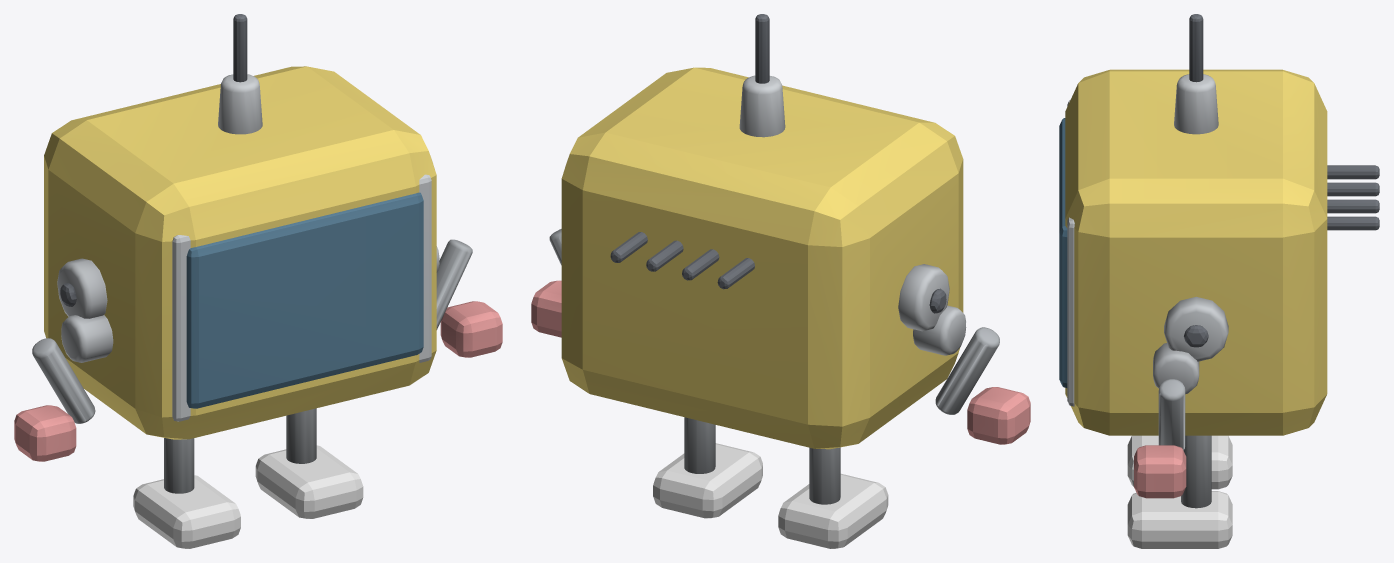
Rendered from Boulon.fbx.
The picture shows the model from 3 angles, left to right: view 1: azimuth 30°, elevation 25°; view 2: azimuth 150°, elevation 25°; view 3: azimuth 270°, elevation 25°; orthographic projection. The views are drawn at different scales.
Visible parts, largest first — view 1: corps__yellow, ecran__screen, pied__red.001, pied__red, cadre__metal, pince__red, pince__red.001, bras__metal2, cou__metal, boulon__metal, epaule__metal, bras__metal2.001 (+3 smaller); view 2: corps__yellow, pied__red, pied__red.001, pince__red, bras__metal2, cou__metal, boulon__metal, jambe__metal2, epaule__metal, jambe__metal2.001, pince__red.001, antenne__dark; view 3: corps__yellow, pied__red.001, boulon__metal.001, pince__red.001, cou__metal, ecran__screen, jambe__metal2.001, bras__metal2.001, pied__red, epaule__metal.001, cadre__metal, antenne__dark (+5 smaller).
Boxes of the visible parts, <box> form: corps__yellow: <box>44,66,436,439</box>; ecran__screen: <box>186,192,423,408</box>; pied__red.001: <box>255,445,363,518</box>; pied__red: <box>133,475,240,548</box>; cadre__metal: <box>172,174,431,421</box>; pince__red: <box>14,405,76,461</box>; pince__red.001: <box>440,301,502,357</box>; bras__metal2: <box>32,338,95,423</box>; cou__metal: <box>218,74,262,134</box>; boulon__metal: <box>57,258,107,318</box>; epaule__metal: <box>61,315,113,362</box>; bras__metal2.001: <box>436,239,472,329</box>; corps__yellow: <box>561,67,963,449</box>; pied__red: <box>778,473,888,548</box>; pied__red.001: <box>653,443,762,518</box>; pince__red: <box>967,387,1030,444</box>; bras__metal2: <box>935,327,999,414</box>; cou__metal: <box>739,75,785,137</box>; boulon__metal: <box>898,264,949,331</box>; jambe__metal2: <box>809,447,840,504</box>; epaule__metal: <box>913,305,966,355</box>; jambe__metal2.001: <box>684,417,715,473</box>; pince__red.001: <box>531,280,561,337</box>; antenne__dark: <box>755,14,769,83</box>; corps__yellow: <box>1065,69,1327,435</box>; pied__red.001: <box>1127,491,1232,548</box>; boulon__metal.001: <box>1164,296,1228,361</box>; pince__red.001: <box>1134,445,1186,498</box>; cou__metal: <box>1174,74,1218,134</box>; ecran__screen: <box>1059,118,1067,387</box>; jambe__metal2.001: <box>1181,435,1211,508</box>; bras__metal2.001: <box>1158,379,1185,450</box>; pied__red: <box>1127,435,1232,489</box>; epaule__metal.001: <box>1153,343,1199,394</box>; cadre__metal: <box>1067,100,1074,406</box>; antenne__dark: <box>1189,14,1203,82</box>.
Bounding box in the file's own units: 270 × 270 × 159.
